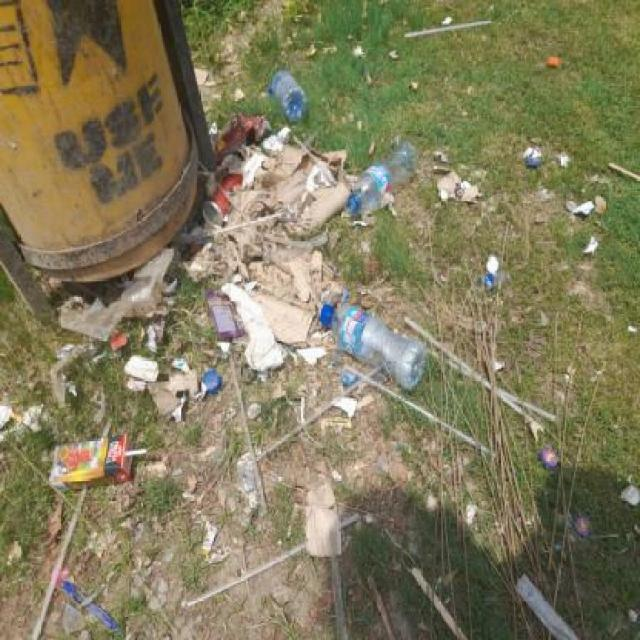garbage: (5, 280, 640, 640), (158, 79, 424, 275), (440, 162, 498, 225), (525, 134, 585, 181), (408, 15, 495, 30), (571, 191, 615, 220), (349, 43, 401, 63), (488, 247, 520, 276), (546, 49, 562, 68)
